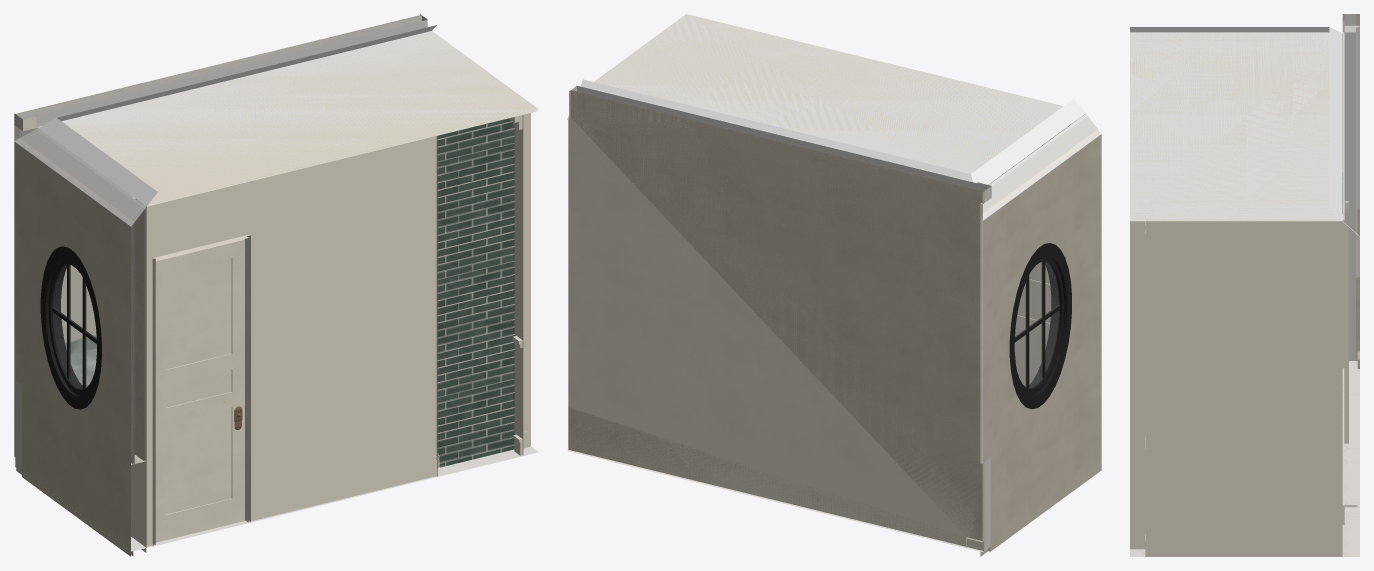
Rendered from green-bath-7e9b6fc102b3.glb.
3 renders of one model, left to right at view 1: azimuth 30°, elevation 25°; view 2: azimuth 150°, elevation 25°; view 3: azimuth 270°, elevation 25°, orthographic. The views are drawn at different scales.
Parts seen in each view (by area): view 1: green-bath-b6ab44e8ab2b63f4, green-bath-e8793759323e04f0, green-bath-9d91b47435c6fb33, green-bath-235bf0030923b7b8, green-bath-5e646f76b0244fe8, green-bath-312b4ac1be39223d, green-bath-33ee0b466567e5f0, green-bath-45debf23193247f8, green-bath-9a6873bb27e0e1d8, green-bath-8d8280a2b3ef8b4c, green-bath-3a4d9d62ecd7be1c, green-bath-39b94aca90fa4b53 (+6 smaller); view 2: green-bath-bd62734a7bc60eb7, green-bath-ca9c0b57f88e5741, green-bath-9d91b47435c6fb33, green-bath-e8793759323e04f0, green-bath-312b4ac1be39223d, green-bath-33ee0b466567e5f0, green-bath-45debf23193247f8, green-bath-9a6873bb27e0e1d8, green-bath-5e646f76b0244fe8, green-bath-39b94aca90fa4b53, green-bath-6ffca0ecbe7bb20f; view 3: green-bath-4fe5579be934d30a, green-bath-9d91b47435c6fb33, green-bath-e8793759323e04f0, green-bath-689020e0fc226264, green-bath-6ffca0ecbe7bb20f, green-bath-39b94aca90fa4b53, green-bath-7261ca91c9d343ad, green-bath-9a6873bb27e0e1d8, green-bath-82fe871d7bda5383, green-bath-312b4ac1be39223d, green-bath-6852ef8a5e690845, green-bath-bd62734a7bc60eb7 (+1 smaller).
Part boxes in pixels (box(x1,y1,x2,y2)): green-bath-b6ab44e8ab2b63f4: box(138, 136, 437, 547); green-bath-e8793759323e04f0: box(42, 25, 537, 204); green-bath-9d91b47435c6fb33: box(39, 31, 537, 206); green-bath-235bf0030923b7b8: box(437, 118, 513, 467); green-bath-5e646f76b0244fe8: box(155, 239, 244, 542); green-bath-312b4ac1be39223d: box(14, 125, 133, 464); green-bath-33ee0b466567e5f0: box(22, 386, 146, 556); green-bath-45debf23193247f8: box(40, 246, 101, 409); green-bath-9a6873bb27e0e1d8: box(16, 15, 427, 471); green-bath-8d8280a2b3ef8b4c: box(515, 109, 538, 455); green-bath-3a4d9d62ecd7be1c: box(35, 127, 146, 461); green-bath-39b94aca90fa4b53: box(19, 128, 144, 463); green-bath-bd62734a7bc60eb7: box(567, 91, 983, 547); green-bath-ca9c0b57f88e5741: box(568, 90, 984, 550); green-bath-9d91b47435c6fb33: box(594, 14, 1085, 184); green-bath-e8793759323e04f0: box(580, 14, 1083, 183); green-bath-312b4ac1be39223d: box(981, 131, 1101, 463); green-bath-33ee0b466567e5f0: box(988, 377, 1101, 551); green-bath-45debf23193247f8: box(1009, 243, 1071, 409); green-bath-9a6873bb27e0e1d8: box(571, 86, 990, 550); green-bath-5e646f76b0244fe8: box(988, 163, 1051, 386); green-bath-39b94aca90fa4b53: box(982, 116, 1097, 213); green-bath-6ffca0ecbe7bb20f: box(567, 450, 983, 551); green-bath-4fe5579be934d30a: box(1145, 214, 1342, 556); green-bath-9d91b47435c6fb33: box(1130, 32, 1342, 221); green-bath-e8793759323e04f0: box(1130, 27, 1340, 219); green-bath-689020e0fc226264: box(1130, 221, 1145, 549); green-bath-6ffca0ecbe7bb20f: box(1130, 361, 1359, 556); green-bath-39b94aca90fa4b53: box(1344, 28, 1355, 282); green-bath-7261ca91c9d343ad: box(1344, 201, 1348, 443); green-bath-9a6873bb27e0e1d8: box(1344, 14, 1355, 556); green-bath-82fe871d7bda5383: box(1342, 14, 1344, 556); green-bath-312b4ac1be39223d: box(1357, 26, 1359, 276); green-bath-6852ef8a5e690845: box(1356, 27, 1357, 277); green-bath-bd62734a7bc60eb7: box(1357, 14, 1359, 368).
Size of the model in its own units: 3.62 by 3.04 by 1.8.
32 materials, 6 textured.
